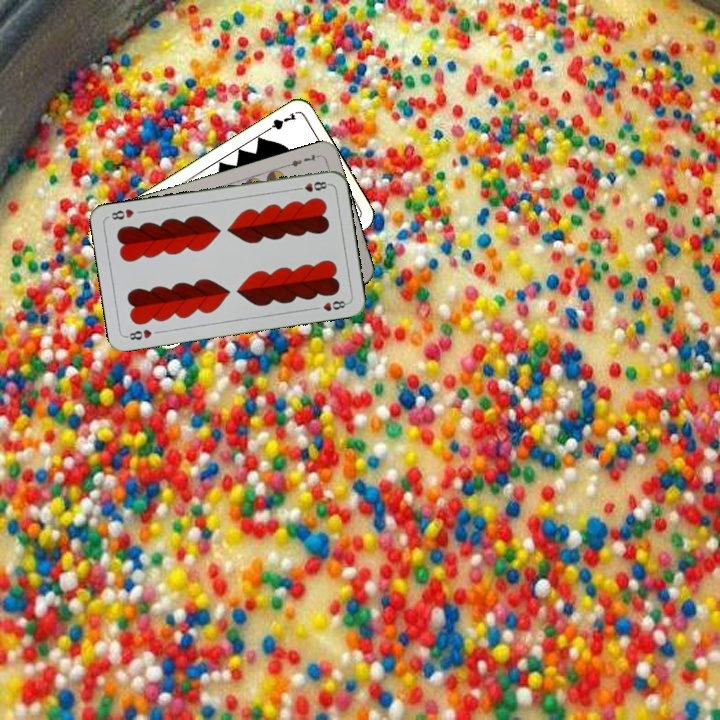E7: (282, 150, 322, 169)
G7: (260, 109, 299, 135)
H8: (291, 177, 331, 194), (123, 325, 154, 343)
